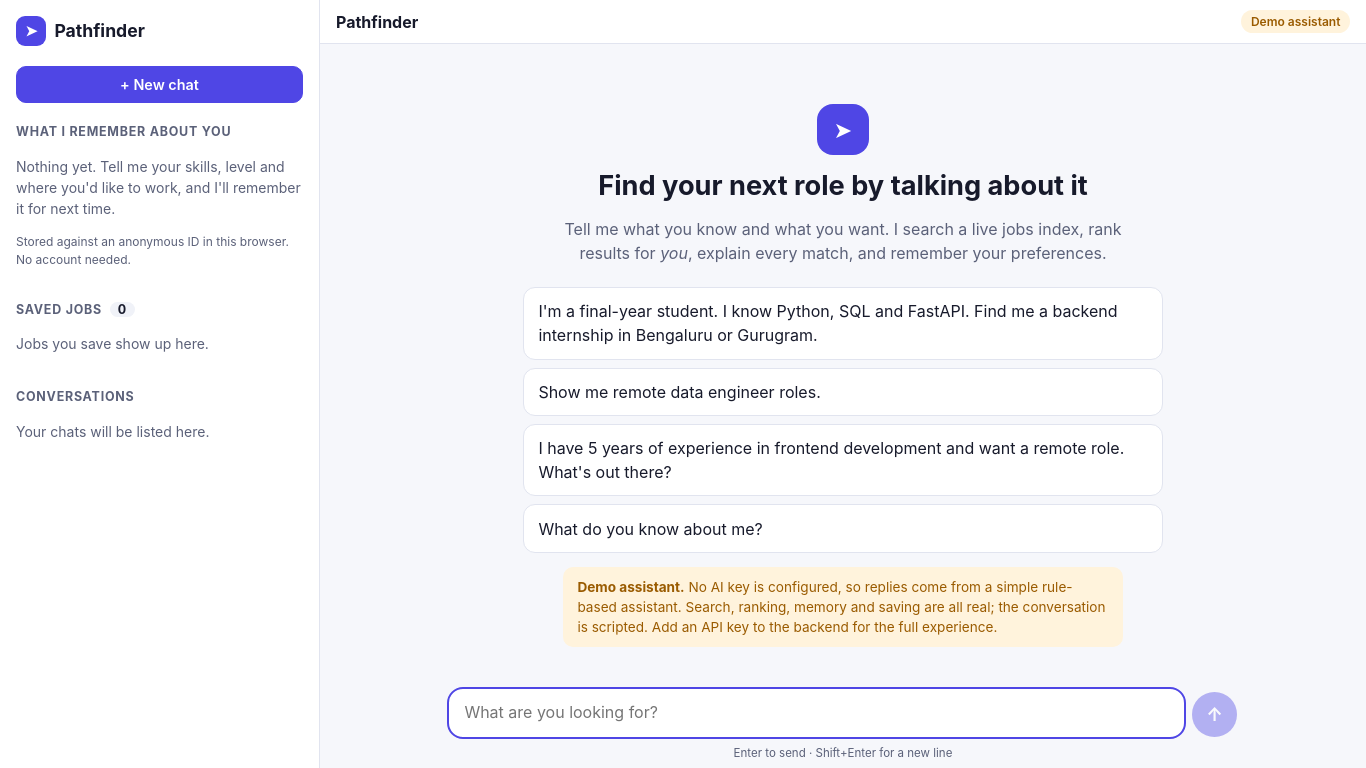
it: App › streams a turn: live activity first, then the answer with an explained job card
Step 1. Type "find me a backend internship" into the text box named "Message Pathfinder" → (817, 713), box left=449, top=689, right=1184, bottom=737
Then press Enter
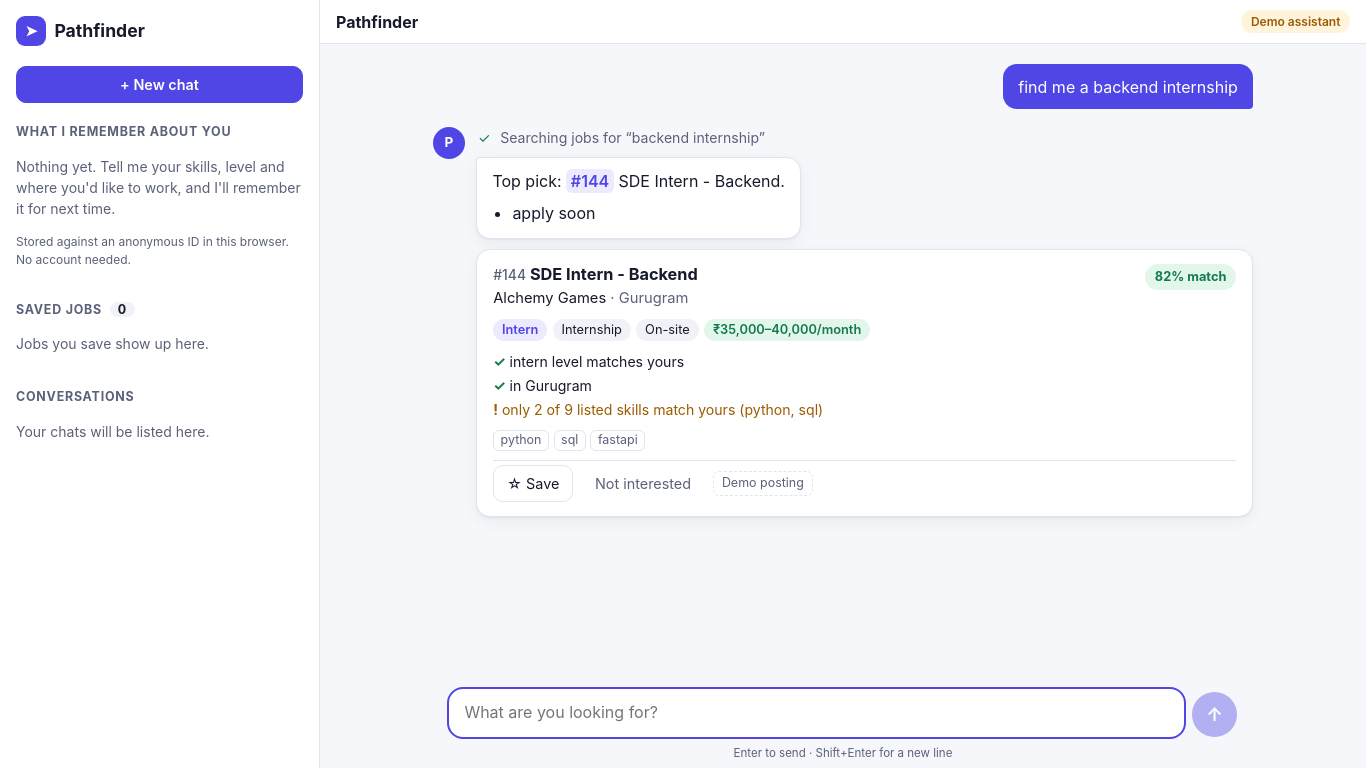
expect the list item "Searching jobs for “backend internship”" is shown: met, box left=500, top=129, right=765, bottom=146
expect the text "82% match" is shown: met, box left=1145, top=264, right=1236, bottom=290
expect the list item "₹35,000–40,000/month" is shown: met, box left=704, top=319, right=870, bottom=341
